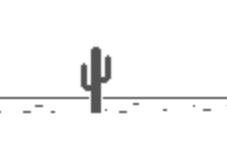t-rex: (77, 44, 114, 117)
